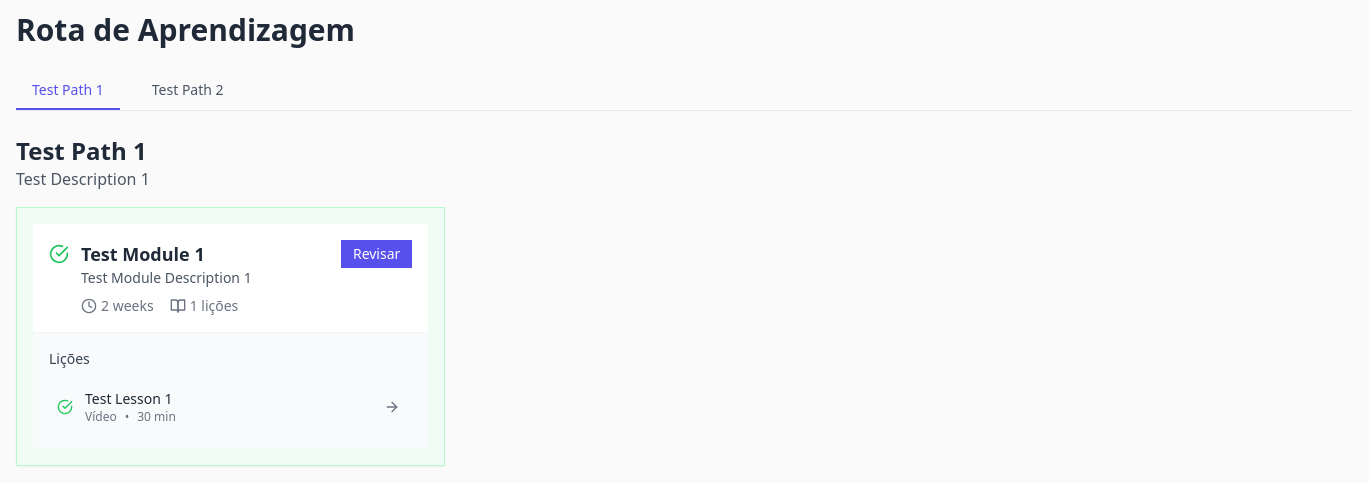
Test: LearningPathPage › changes active path when tab is clicked
Expected: the heading "Test Module 1" is shown, [81,242,205,266]
// Click on the second path tab
Click the tab "Test Path 2" at x=188, y=91, box [136,72,240,110]
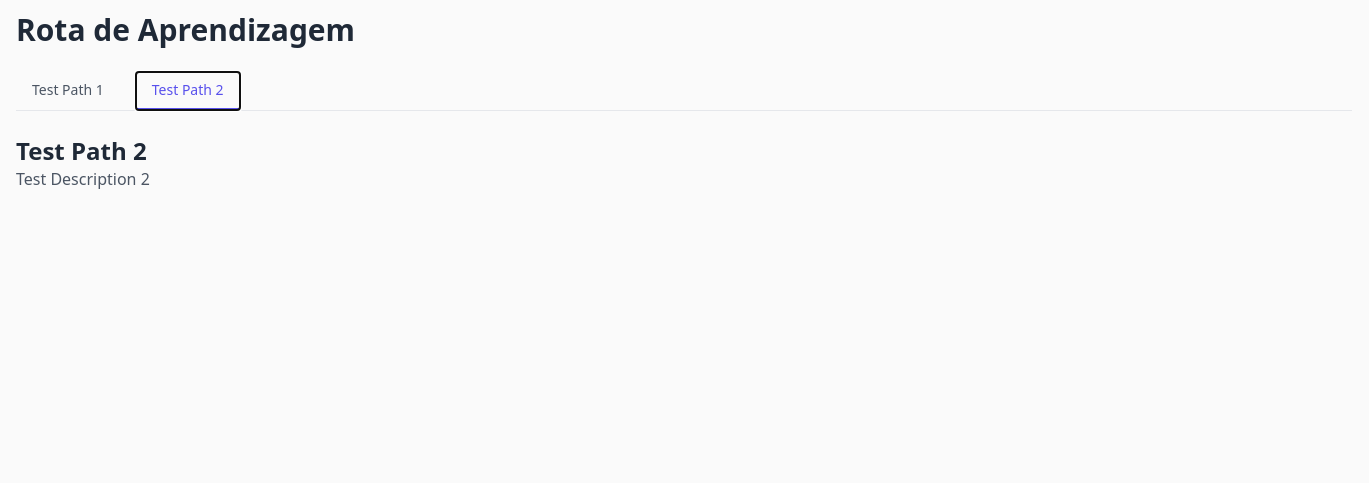
Expected: the heading "Test Module 1" is gone
Expected: the text "Test Description 2" is shown, [16,168,150,190]
